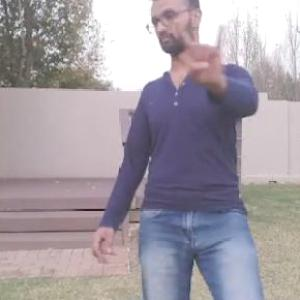takeoff-hand: (175, 16, 233, 102)
